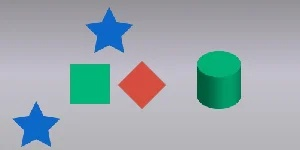五角星形: (85, 7, 136, 56), (12, 101, 60, 149)
圆柱体: (193, 49, 243, 111)
正方形: (68, 62, 112, 106)
菱形: (116, 59, 168, 111)
